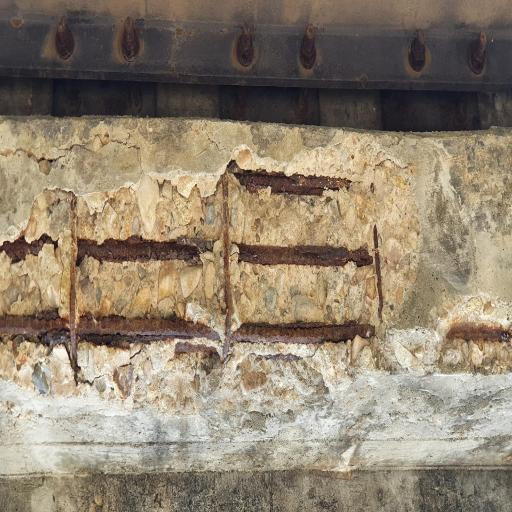exposed_rebar: (0, 196, 217, 361), (221, 169, 375, 352), (235, 226, 383, 320), (232, 169, 350, 197), (0, 235, 56, 263), (446, 322, 512, 343), (235, 21, 256, 69), (121, 16, 141, 62), (298, 25, 317, 71), (467, 32, 487, 75), (407, 28, 426, 73), (55, 18, 75, 60), (11, 18, 24, 28), (370, 183, 374, 194)
spalling: (0, 132, 512, 430)
